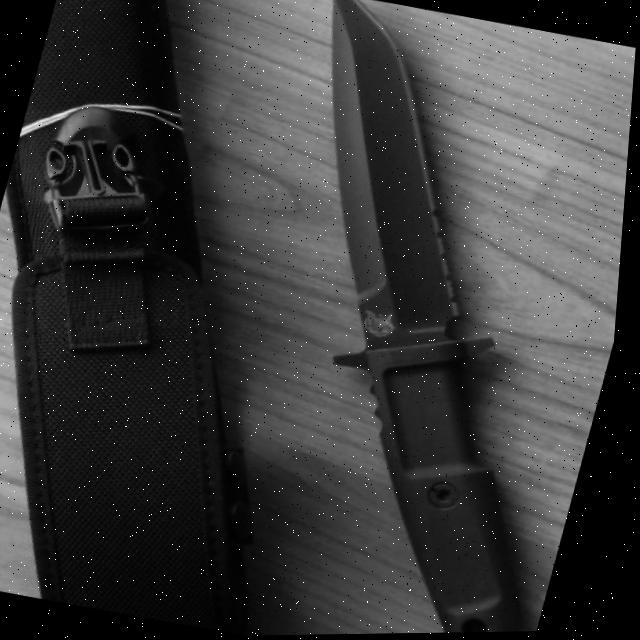knife: (166, 0, 640, 638)
